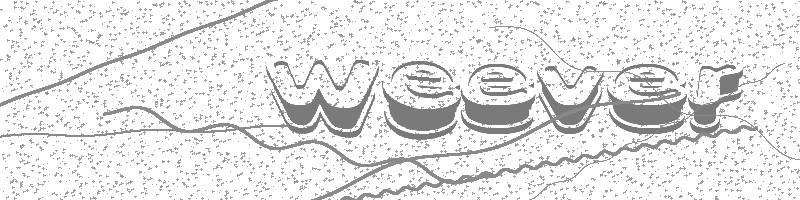e: (383, 61, 461, 140), (608, 64, 687, 134), (462, 64, 537, 135)
r: (689, 65, 743, 134)
v: (537, 65, 603, 133)
w: (266, 59, 379, 136)
